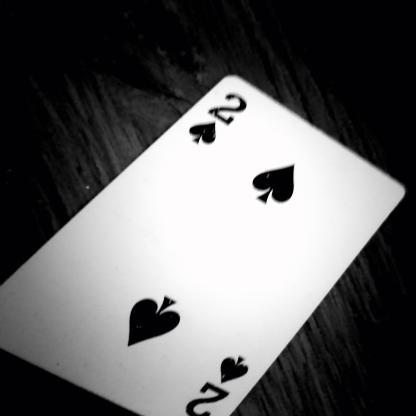2S: (188, 334, 258, 416), (182, 80, 250, 149)
